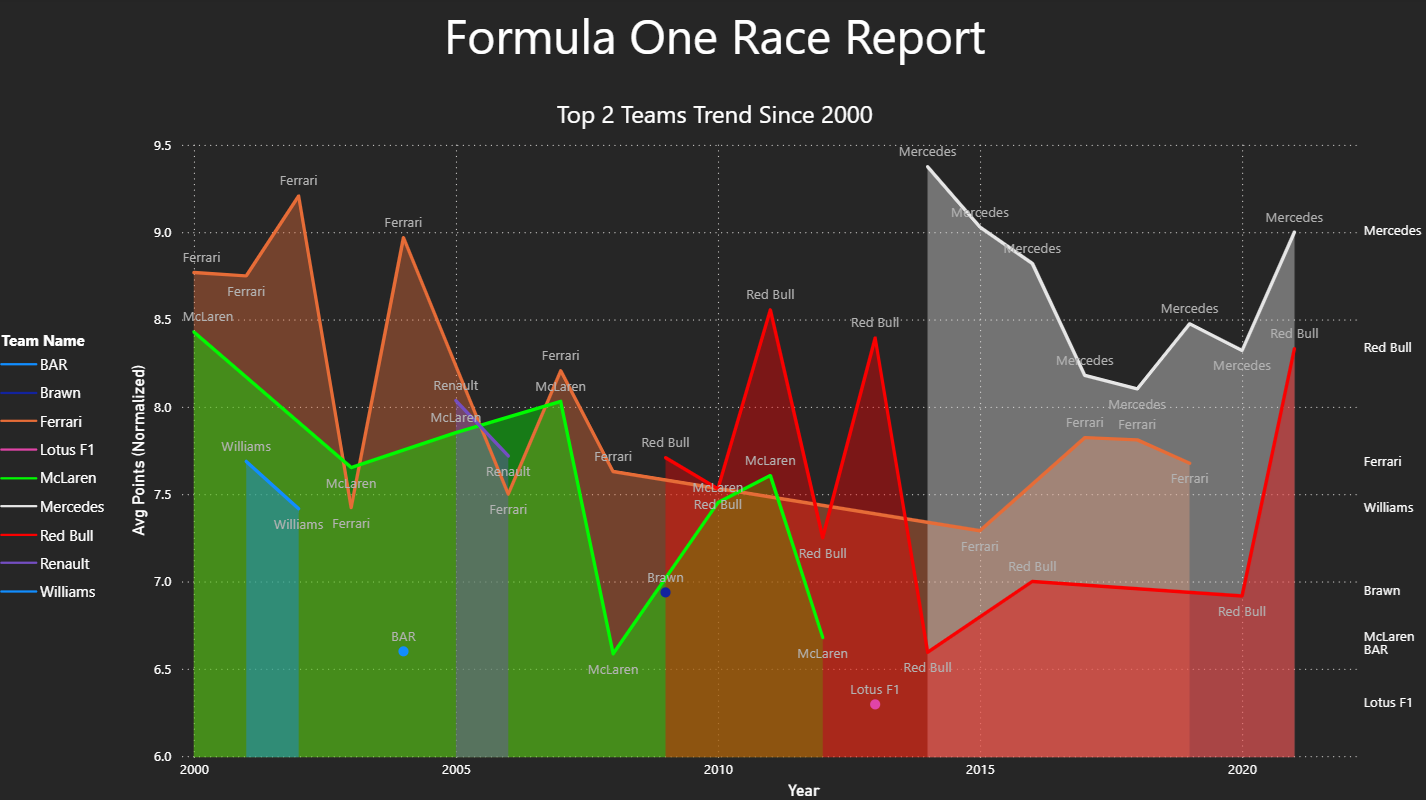

What the dashboard file says about the page in this screenshot:
{"tool":"powerbi","page":{"name":"Trend_team","canvas":[1280,720],"ordinal":2},"visuals":[{"type":"textbox","box":[0,0,1280.3,89.3],"z":0},{"type":"areaChart","title":"Top 2 Teams Trend Since 2000 ","fields":{"Category":["DimYear.YearKey"],"Series":["team_trend.team_name"],"Y":["Avg(team_trend.avg_points)"]},"box":[0,89.3,1280,631],"z":1000}]}

Visuals, with their boxes in screenshot pixels (x1, y1, x2, y2), scaled from the page's 1280x720 canvas onto the 1426x800 screenshot:
textbox: select_region(0, 0, 1425, 99)
"Top 2 Teams Trend Since 2000 " areaChart: select_region(0, 99, 1425, 799)
